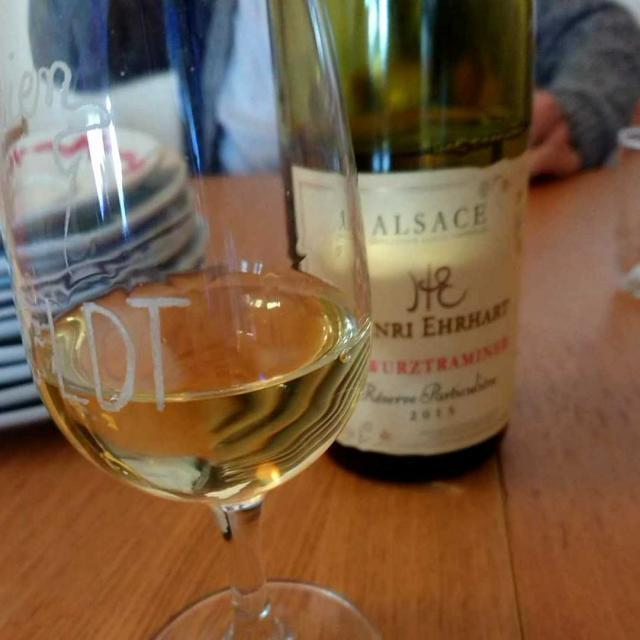wine: (46, 290, 336, 482)
